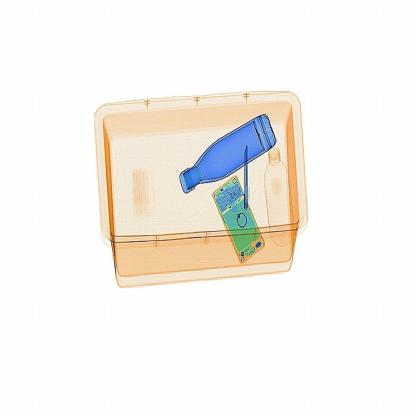pliers: (238, 136, 263, 213)
